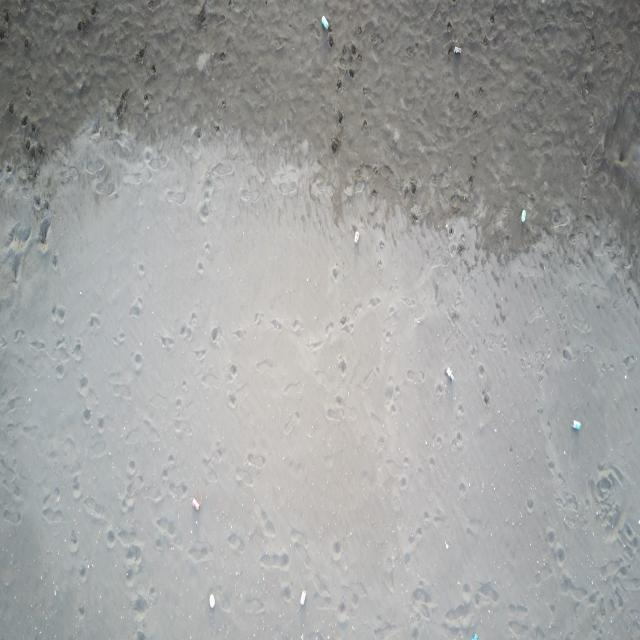Garbage: (444, 367, 452, 382), (192, 496, 200, 510), (320, 15, 327, 30), (208, 592, 215, 607), (353, 230, 359, 243), (300, 591, 306, 604), (520, 208, 526, 221), (572, 419, 579, 430), (452, 45, 460, 54), (471, 633, 477, 639)
